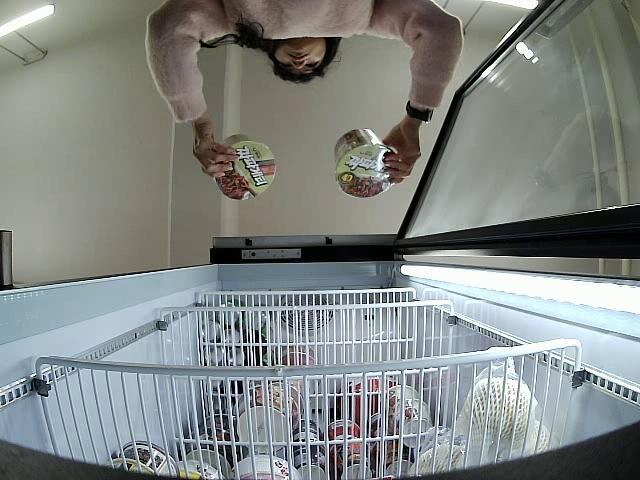03_chapagetti_L: (334, 130, 396, 198), (214, 136, 276, 203)
